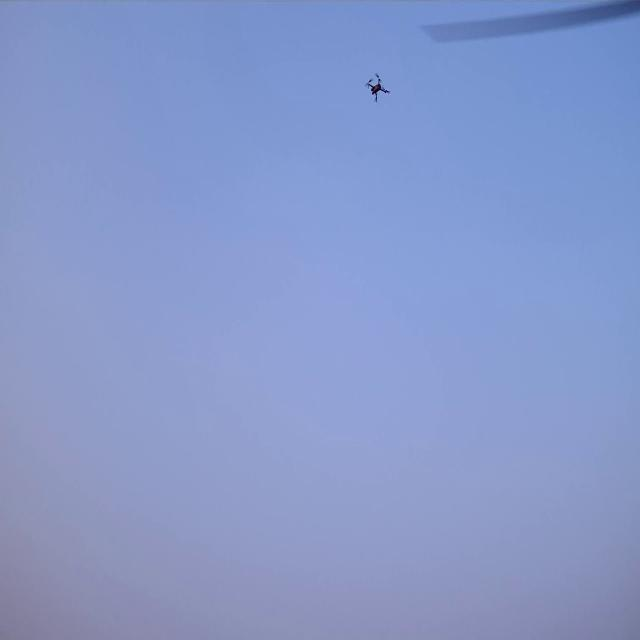UAV: (367, 76, 388, 102)
